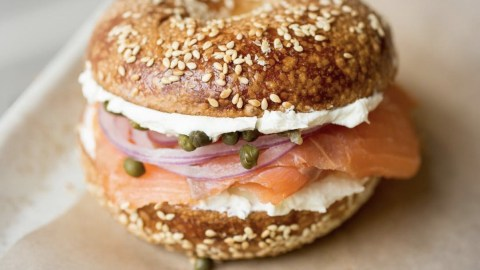hamburger_buns: (80, 1, 420, 266)
